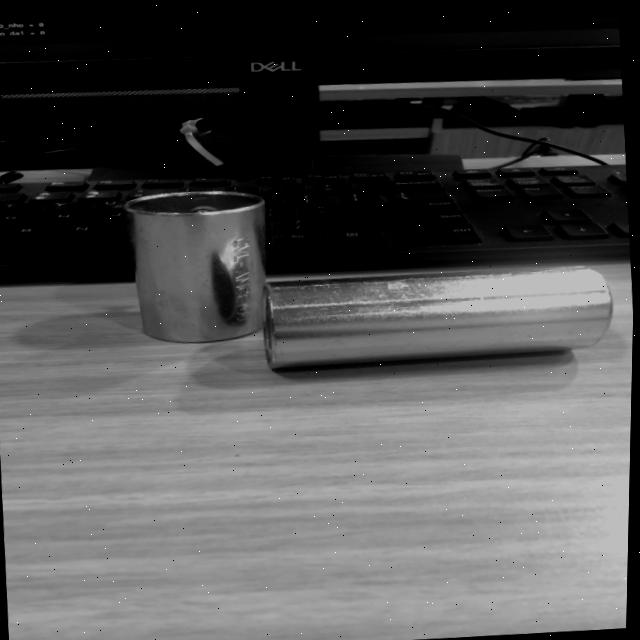Co_Lon: (259, 258, 613, 369)
Co_Nho: (123, 189, 264, 342)
